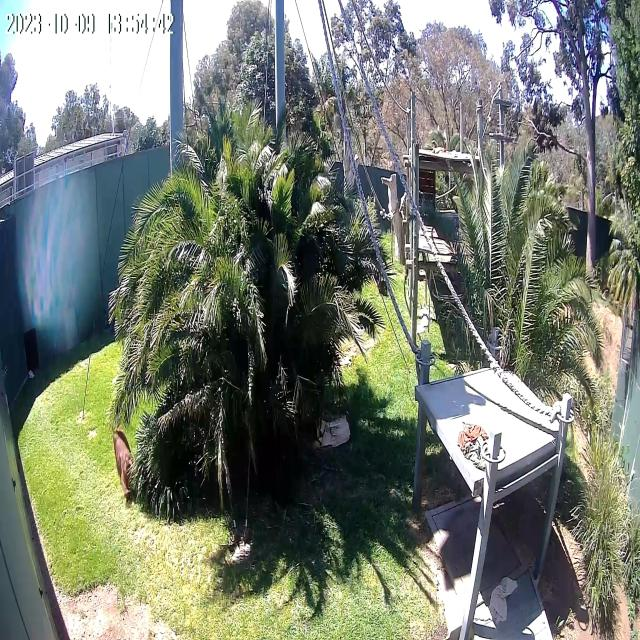orangutan: (111, 425, 136, 500)
